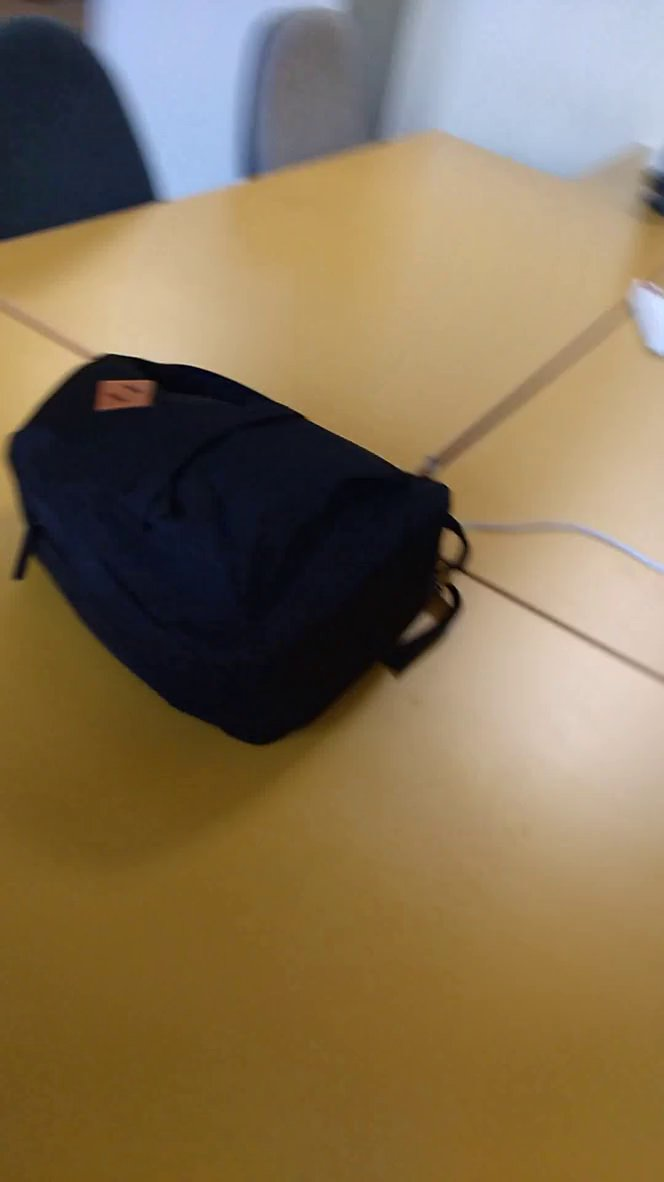bag: (1, 328, 502, 759)
chair: (232, 1, 396, 181)
